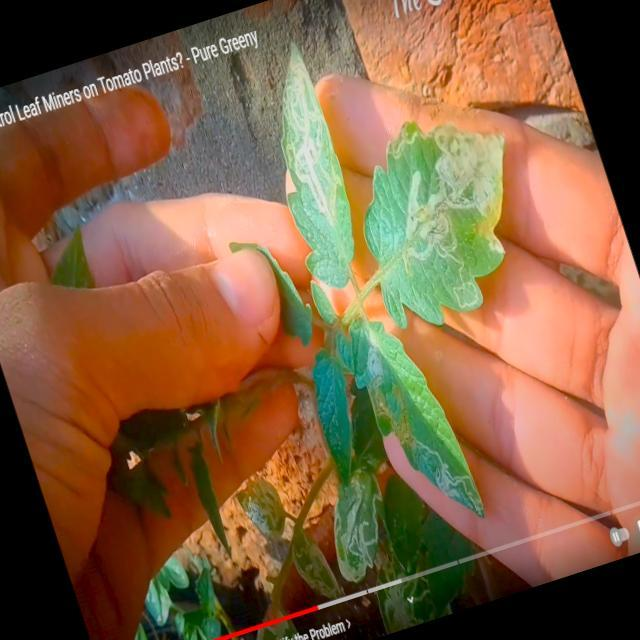Tomato healthy leaf: (296, 341, 379, 488)
Tomato target spot leaf: (332, 92, 558, 342), (335, 298, 488, 542), (237, 38, 377, 296), (308, 452, 408, 586), (284, 522, 344, 610), (232, 470, 296, 550)
